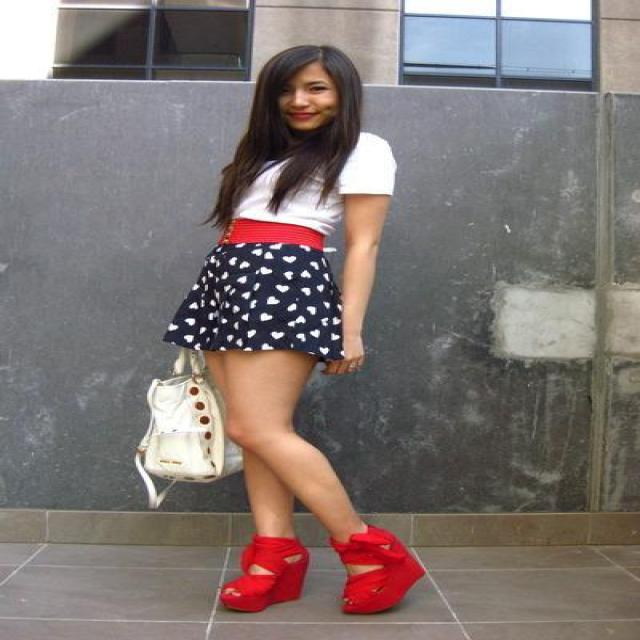bag: (134, 354, 242, 498)
shirt: (235, 132, 395, 232)
shoe: (219, 526, 424, 614)
skirt: (164, 243, 342, 364)
